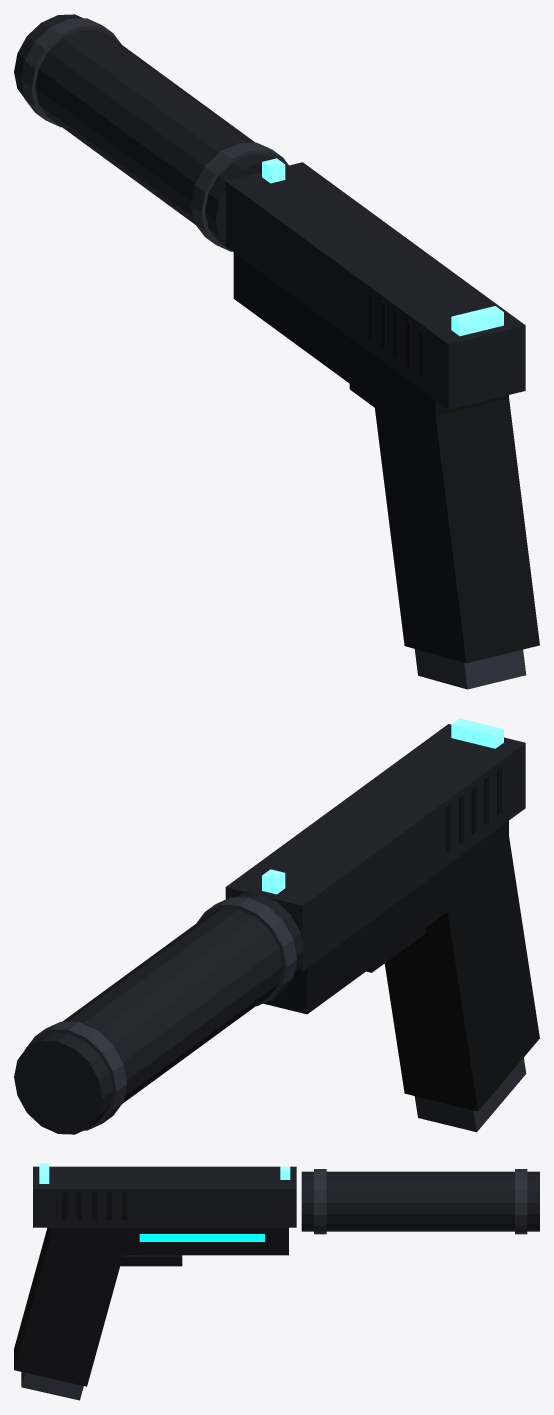
File: Weapon_USP_Tactical.fbx
The picture shows the model from 3 angles, top to bottom: view 1: azimuth 30°, elevation 25°; view 2: azimuth 150°, elevation 25°; view 3: azimuth 270°, elevation 25°; orthographic projection. The views are drawn at different scales.
Parts seen in each view (by area): view 1: Weapon_USP_Tactical__DarkMetal, Weapon_USP_Tactical__CarbonFiber, Weapon_USP_Tactical__SteelPanel, Weapon_USP_Tactical__NeonGreen; view 2: Weapon_USP_Tactical__DarkMetal, Weapon_USP_Tactical__CarbonFiber, Weapon_USP_Tactical__SteelPanel, Weapon_USP_Tactical__NeonGreen; view 3: Weapon_USP_Tactical__DarkMetal, Weapon_USP_Tactical__CarbonFiber, Weapon_USP_Tactical__SteelPanel, Weapon_USP_Tactical__NeonCyan, Weapon_USP_Tactical__NeonGreen.
Boxes of the visible parts, bbox=[...] form: Weapon_USP_Tactical__DarkMetal: bbox=[14, 14, 525, 409]; Weapon_USP_Tactical__CarbonFiber: bbox=[233, 253, 539, 663]; Weapon_USP_Tactical__SteelPanel: bbox=[21, 18, 526, 689]; Weapon_USP_Tactical__NeonGreen: bbox=[262, 158, 503, 336]; Weapon_USP_Tactical__DarkMetal: bbox=[14, 724, 525, 1134]; Weapon_USP_Tactical__CarbonFiber: bbox=[263, 766, 539, 1111]; Weapon_USP_Tactical__SteelPanel: bbox=[25, 897, 526, 1132]; Weapon_USP_Tactical__NeonGreen: bbox=[262, 718, 503, 894]; Weapon_USP_Tactical__DarkMetal: bbox=[33, 1166, 539, 1231]; Weapon_USP_Tactical__CarbonFiber: bbox=[14, 1192, 288, 1386]; Weapon_USP_Tactical__SteelPanel: bbox=[21, 1169, 527, 1400]; Weapon_USP_Tactical__NeonCyan: bbox=[139, 1234, 264, 1241]; Weapon_USP_Tactical__NeonGreen: bbox=[39, 1163, 290, 1183].
Size of the model in its own units: 0.26 by 0.9822 by 2.1.
